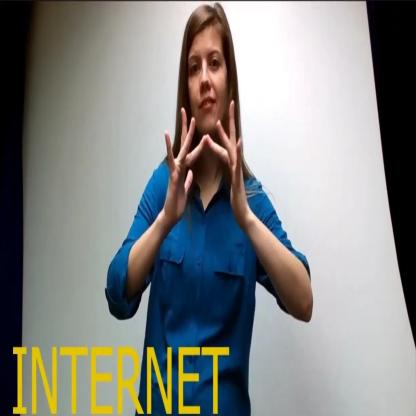Internet: (162, 102, 252, 231)
